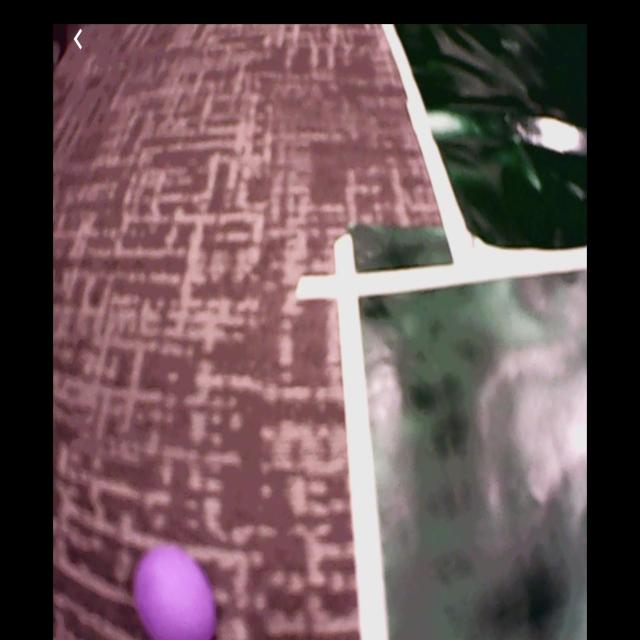ball: (132, 541, 218, 638)
